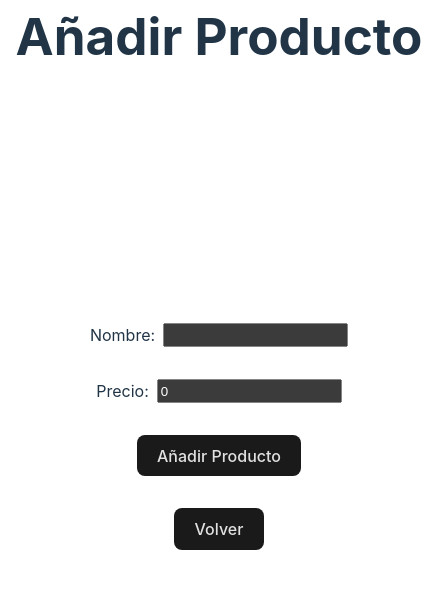
Test: AddProduct › should show an error message if both fields are empty
Click the button "Añadir Producto" at point(219, 456), box left=137, top=435, right=301, bottom=476
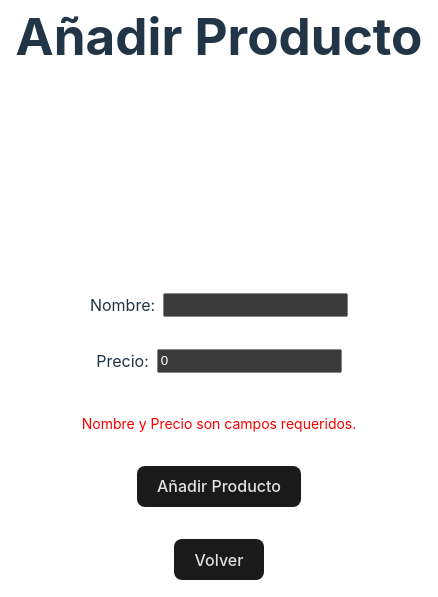
expect the text "Nombre y Precio son campos requeridos." is shown: met, box left=82, top=413, right=356, bottom=434
